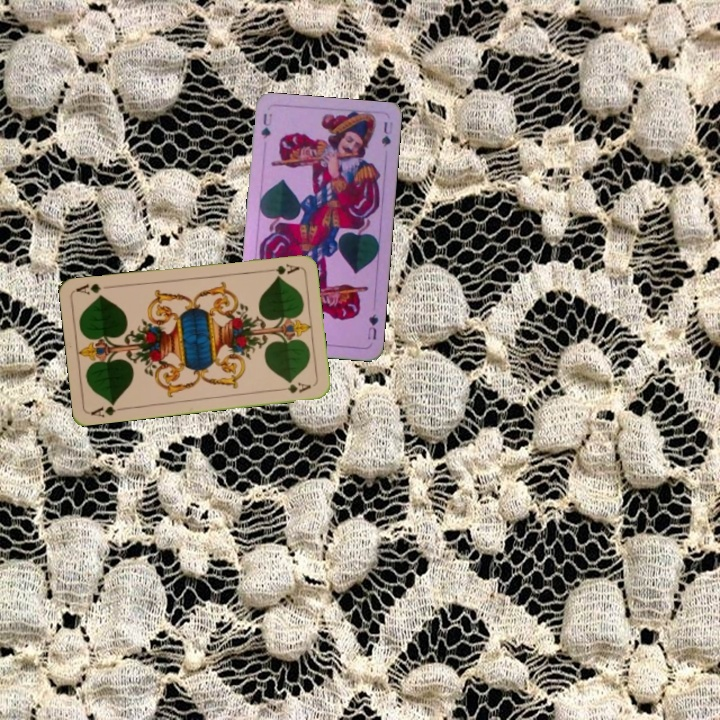GA: (87, 398, 128, 419), (261, 260, 301, 277)
GU: (257, 109, 275, 142), (364, 310, 381, 342)
